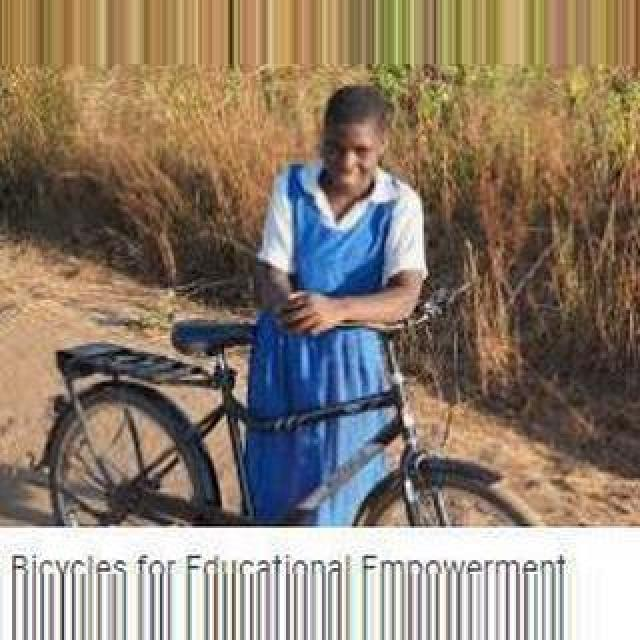MC-Bike: (248, 82, 430, 518)
Person: (41, 312, 545, 524)
